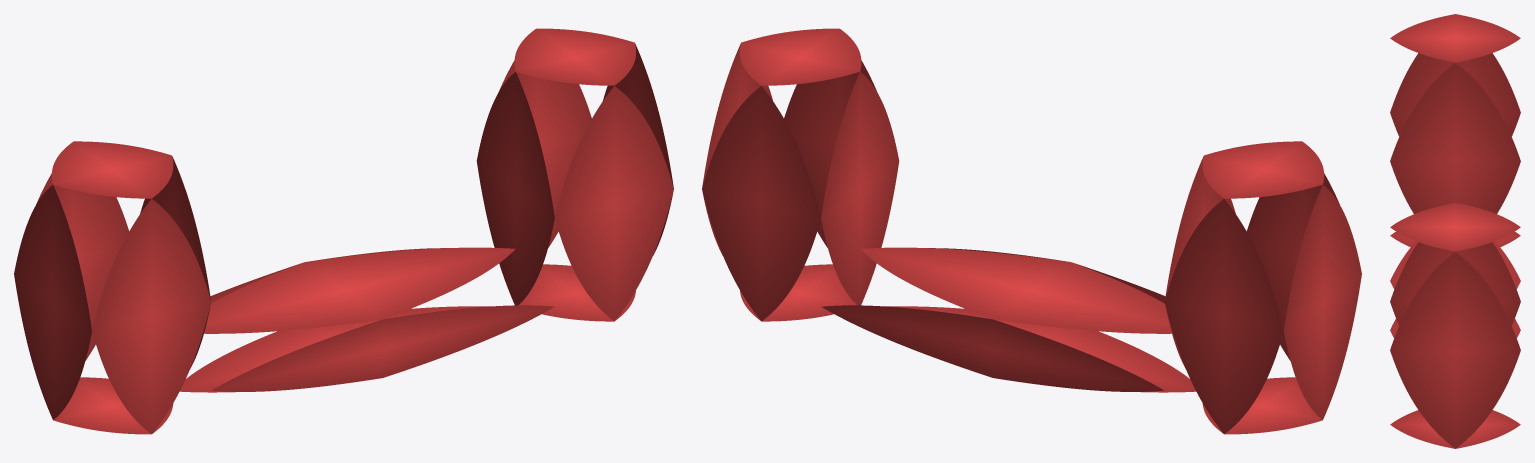
The model's file is deagle_357_slide_light.fbx.
3 renders of one model, left to right at view 1: azimuth 30°, elevation 25°; view 2: azimuth 150°, elevation 25°; view 3: azimuth 270°, elevation 25°, orthographic. The views are drawn at different scales.
Visible parts, largest first — view 1: cube, cube_2, cube_1; view 2: cube, cube_2, cube_1; view 3: cube_2, cube, cube_1.
Part boxes in pixels (x1,y1,x2,y2): cube: (14,141,211,434); cube_2: (476,28,673,321); cube_1: (180,247,554,392); cube: (1164,141,1361,434); cube_2: (702,28,899,321); cube_1: (821,247,1195,392); cube_2: (1390,203,1520,448); cube: (1390,14,1520,247); cube_1: (1390,241,1520,337).
Size of the model in its own units: 5.03 by 1.95 by 1.17.
1 material, 1 textured.
